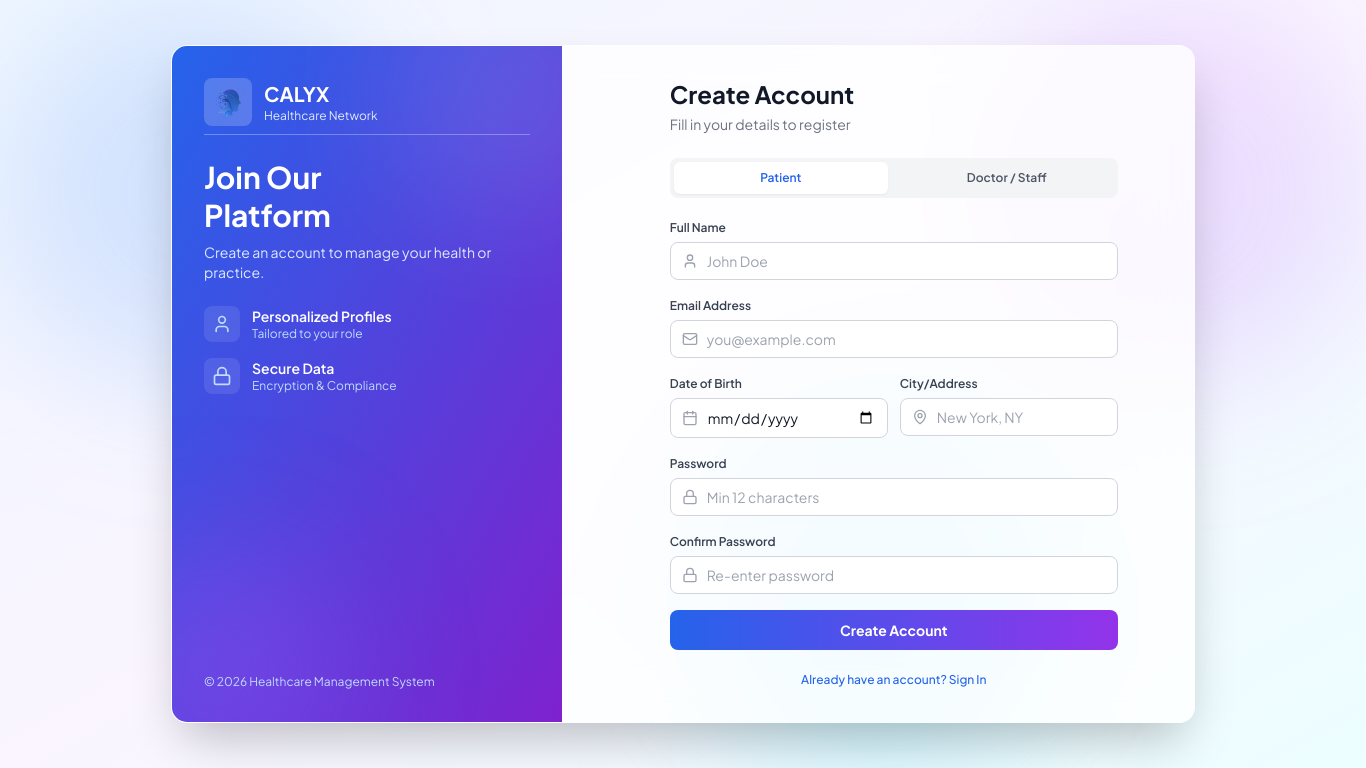
Scenario: CreateAccount Page › switches to doctor form when doctor role selected
Step 1. Click the button "Doctor / Staff" → (1007, 178), box left=900, top=162, right=1114, bottom=194
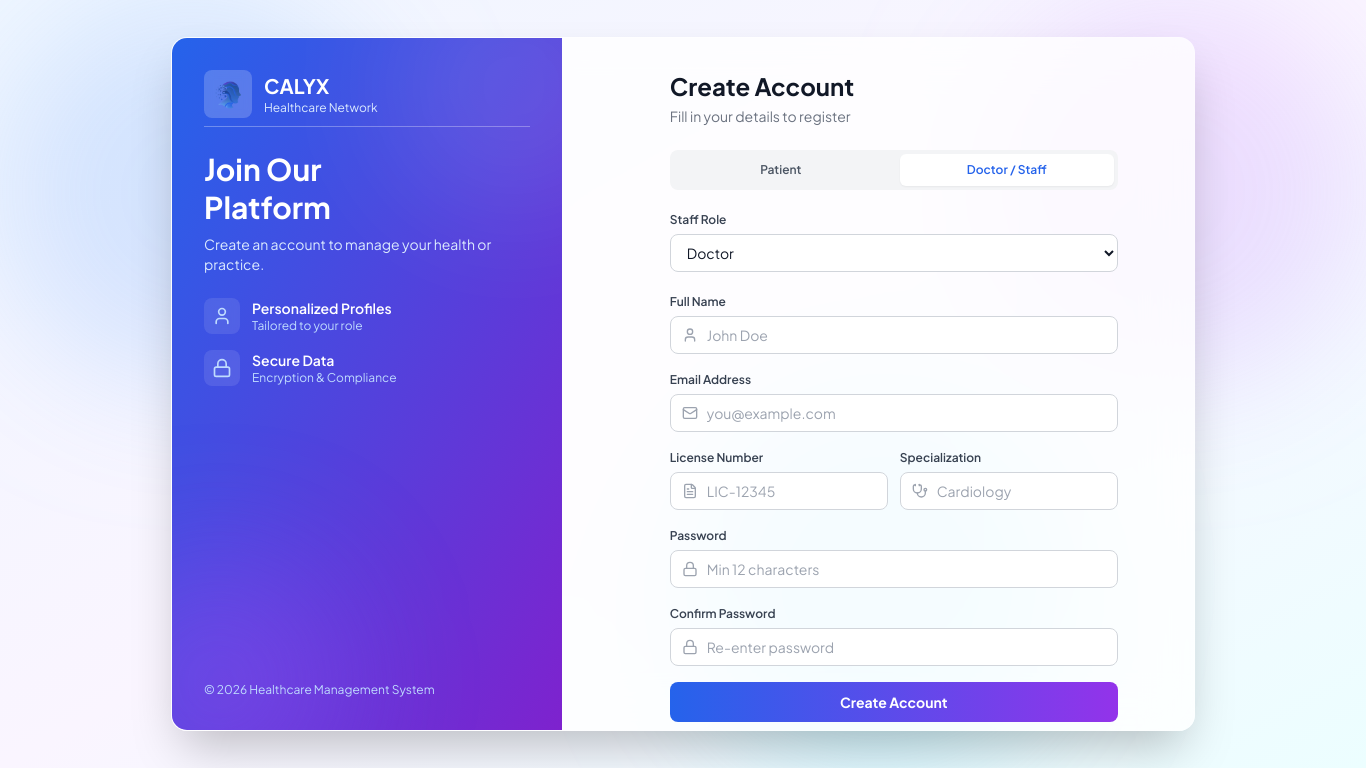
Expected: the field with placeholder "LIC-12345" is shown, left=670, top=472, right=888, bottom=510
Expected: the field with placeholder "Cardiology" is shown, left=900, top=472, right=1118, bottom=510
Expected: the text "Date of Birth" is gone
